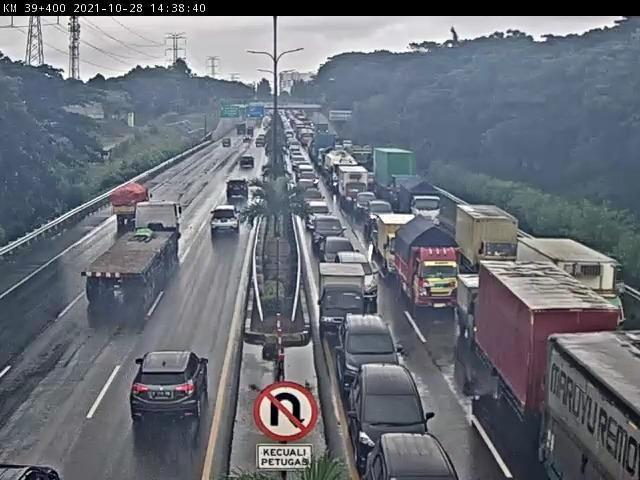car: (107, 342, 237, 434), (360, 429, 463, 479), (352, 371, 427, 432), (343, 313, 413, 370), (338, 255, 382, 300), (341, 168, 373, 208), (323, 236, 359, 267), (203, 221, 241, 249), (312, 216, 346, 244), (222, 185, 252, 211), (368, 202, 392, 232), (357, 195, 386, 217), (311, 201, 336, 223), (236, 158, 258, 178), (303, 190, 324, 208)
truck: (474, 260, 584, 423), (64, 207, 171, 335), (550, 332, 640, 480), (516, 235, 623, 315), (395, 225, 461, 310), (461, 203, 525, 272), (457, 275, 505, 340), (322, 265, 369, 326), (381, 216, 422, 268), (403, 183, 448, 228), (102, 189, 149, 219), (402, 187, 438, 224)
